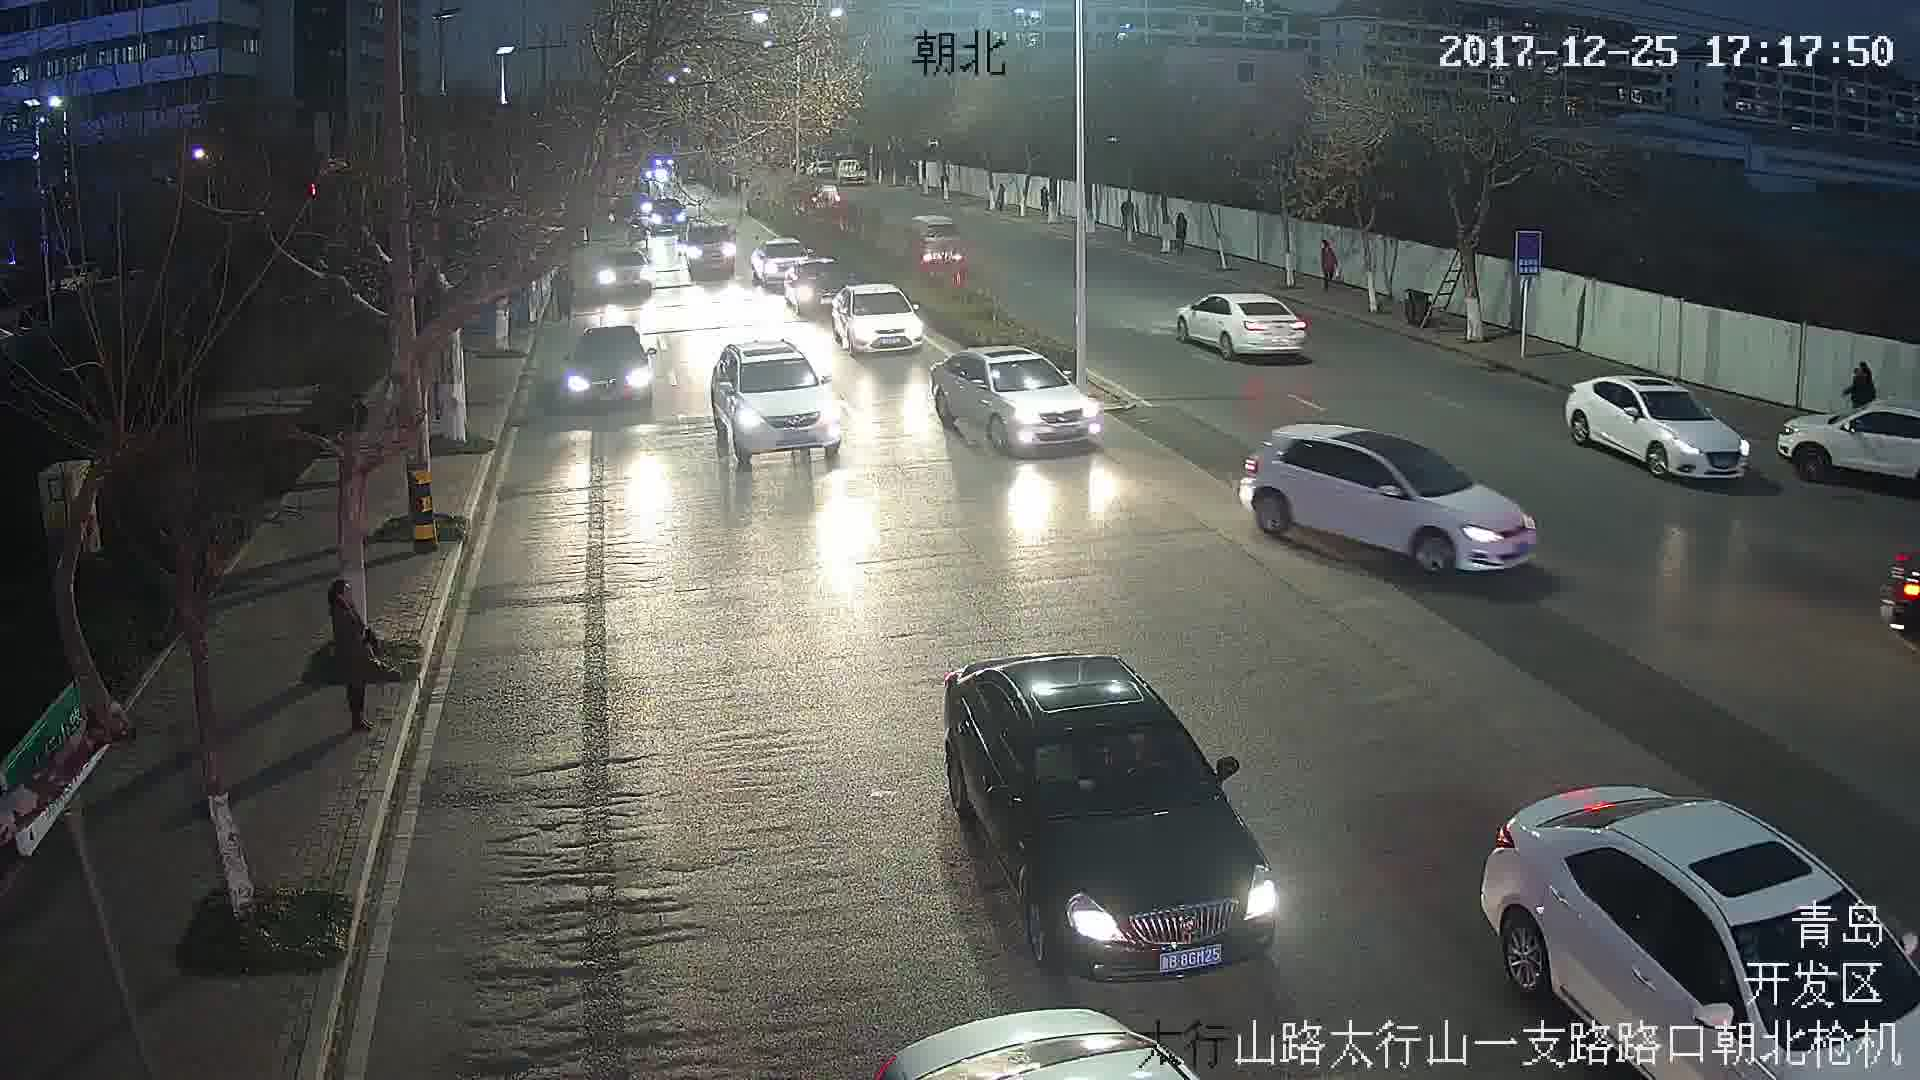car: (946, 650, 1281, 977), (1239, 416, 1546, 585), (1567, 371, 1749, 487), (927, 344, 1099, 459), (713, 346, 842, 463), (1184, 289, 1303, 360), (563, 323, 653, 414), (839, 288, 917, 352), (910, 210, 967, 278), (685, 224, 738, 282), (593, 250, 659, 296), (752, 237, 809, 284)
person: (323, 582, 380, 727), (1320, 241, 1339, 287)
